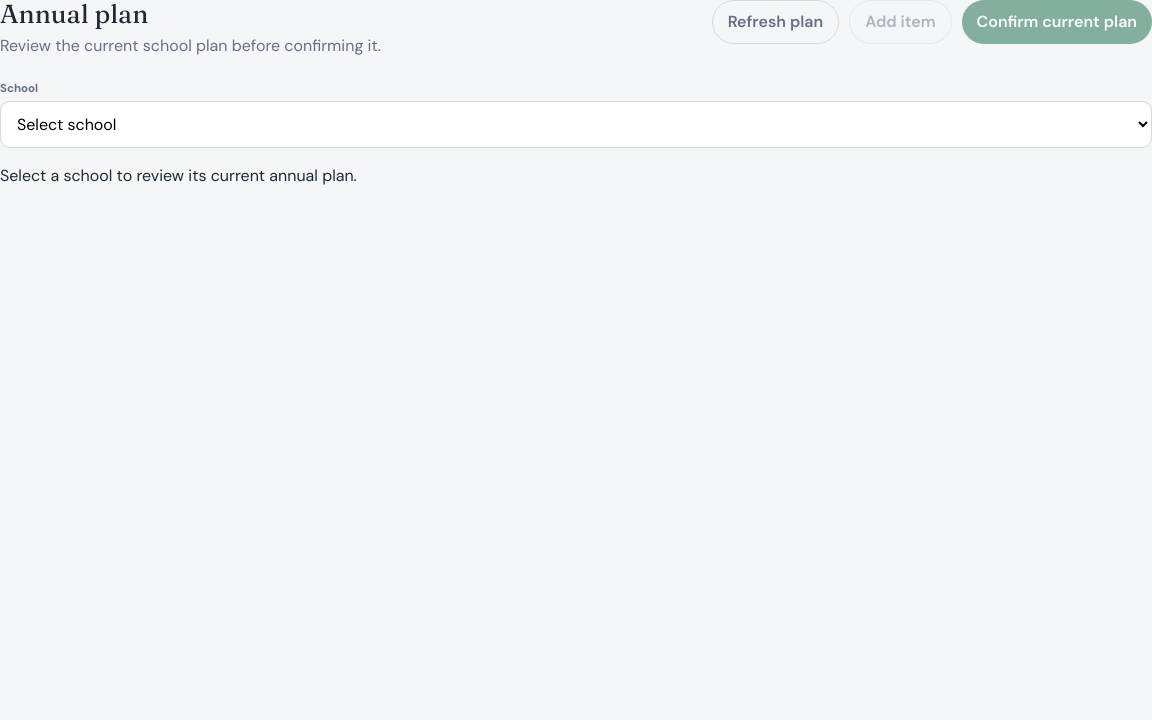
Annual plan persisted confirmation › requires explicit platform school scope and reuses an uncertain item reference on retry
Check: the button "Confirm current plan" is disabled, box 962,0 -> 1151,44
Select "School A" in the dropdown labelled "School" at [576, 125], box 0,101 -> 1151,148
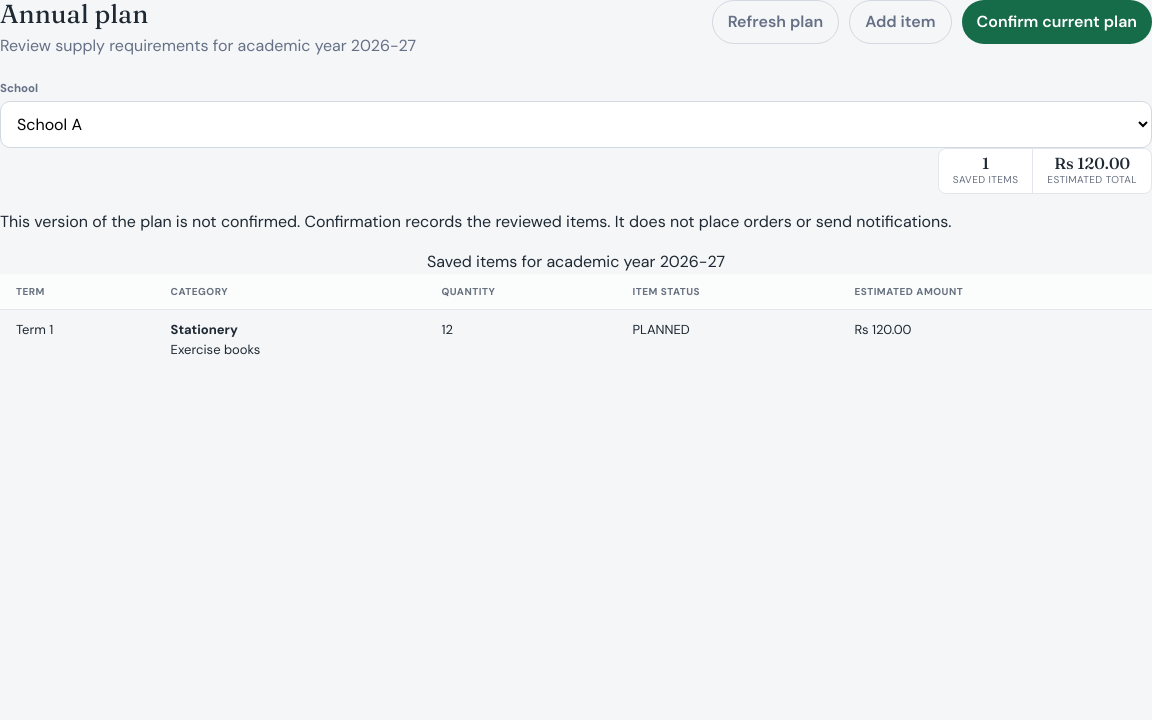
Check: the table is shown, box 0,250 -> 1151,369
Click the button "Add item" at [900, 22], box 849,0 -> 952,44
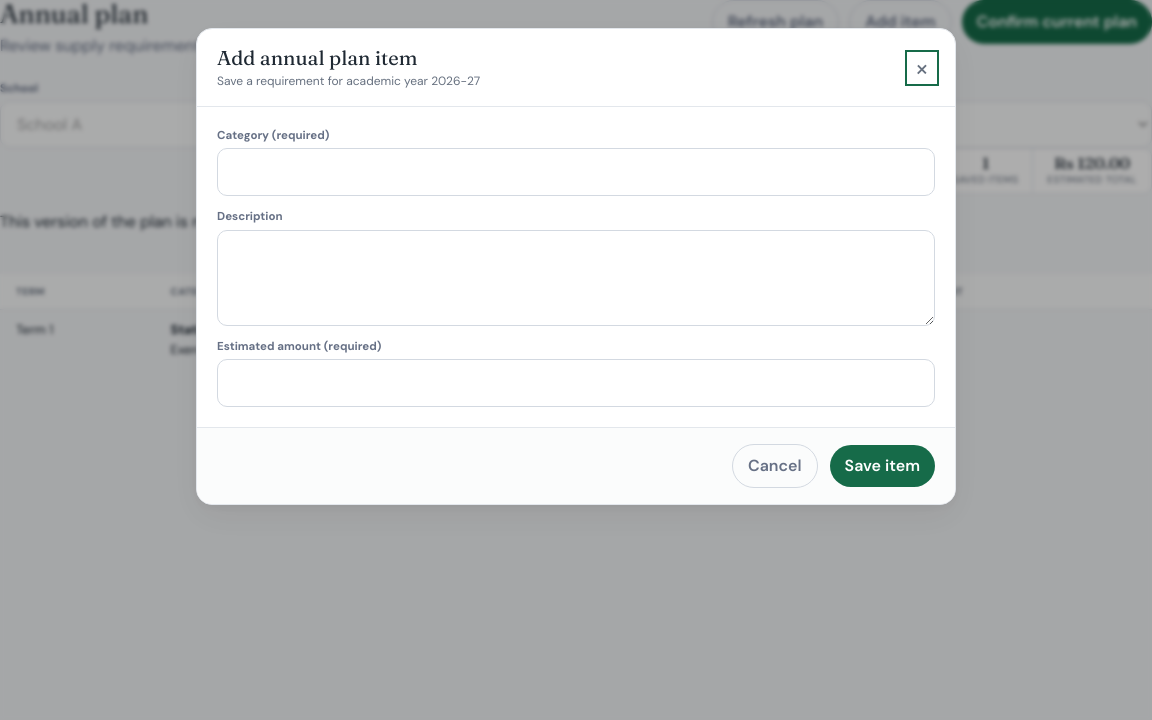
Type "Uniforms" into the field labelled "Category (required)" at [576, 172], box 217,148 -> 935,196
Type "250" into the number field labelled "Estimated amount (required)" at [576, 383], box 217,359 -> 935,407
Click the button "Save item" at [882, 466], box 830,445 -> 935,487
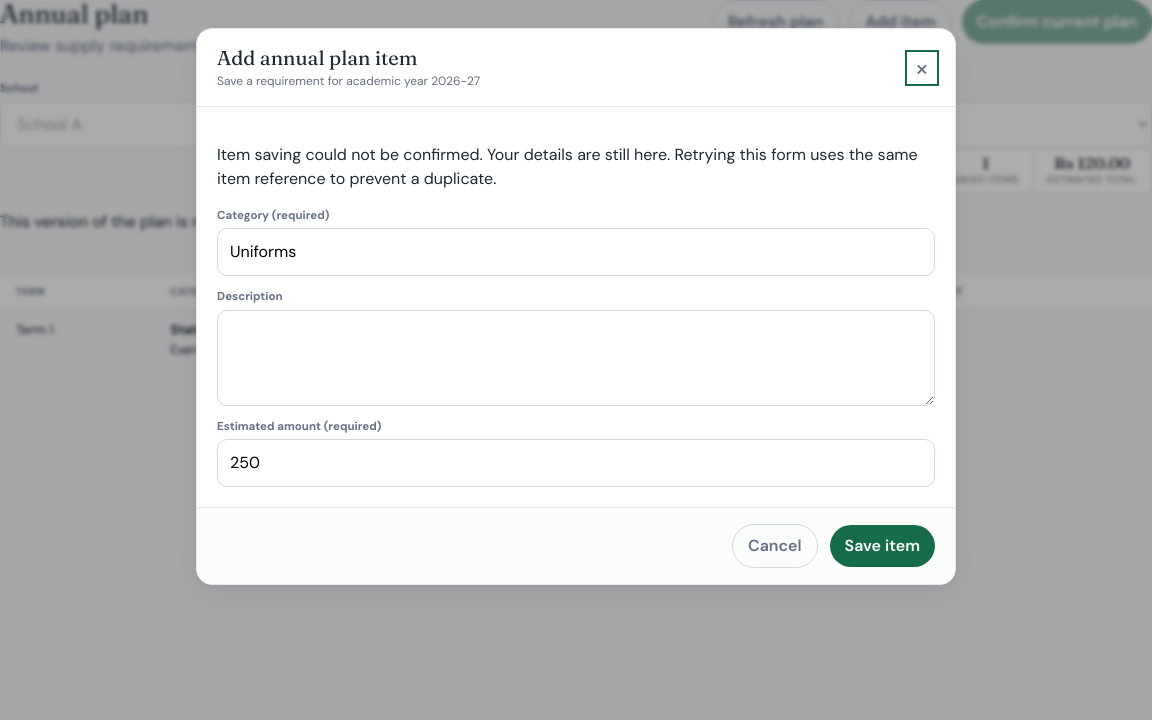
Check: the message shows "same item reference", box 217,144 -> 918,189
Click the button "Cancel" at [775, 546], box 732,524 -> 818,568
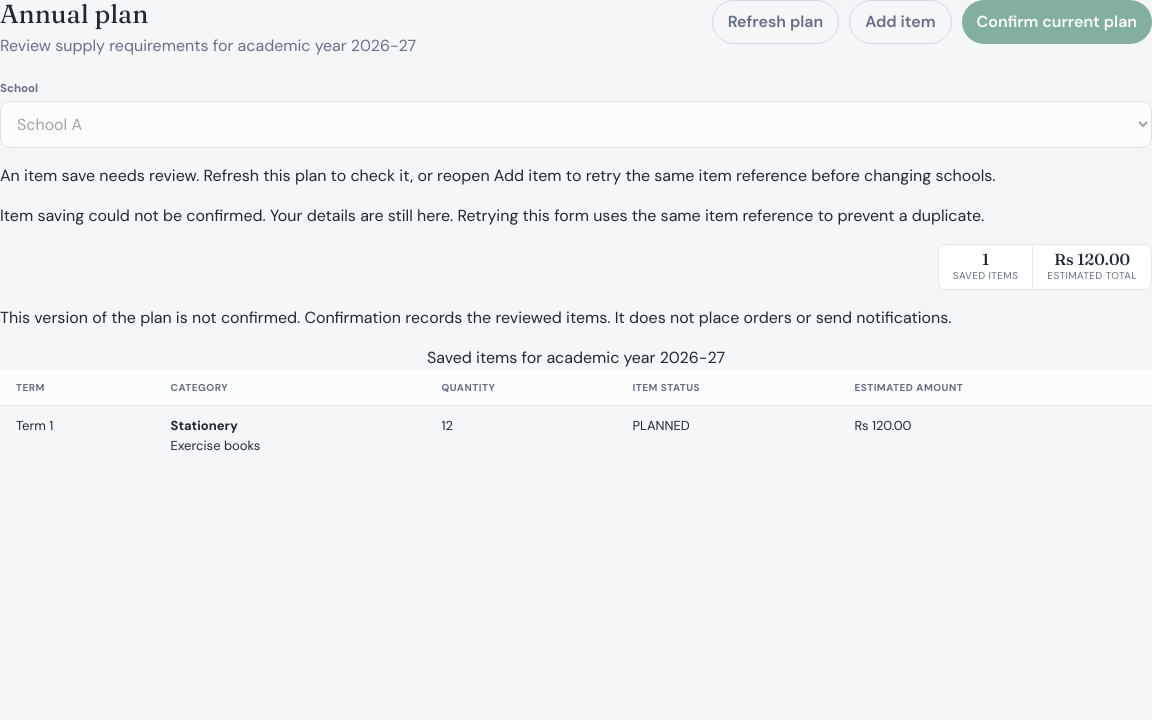
Check: the dropdown labelled "School" is disabled, box 0,101 -> 1151,148
Check: the button "Confirm current plan" is disabled, box 962,0 -> 1151,44
Click the button "Add item" at [900, 22], box 849,0 -> 952,44
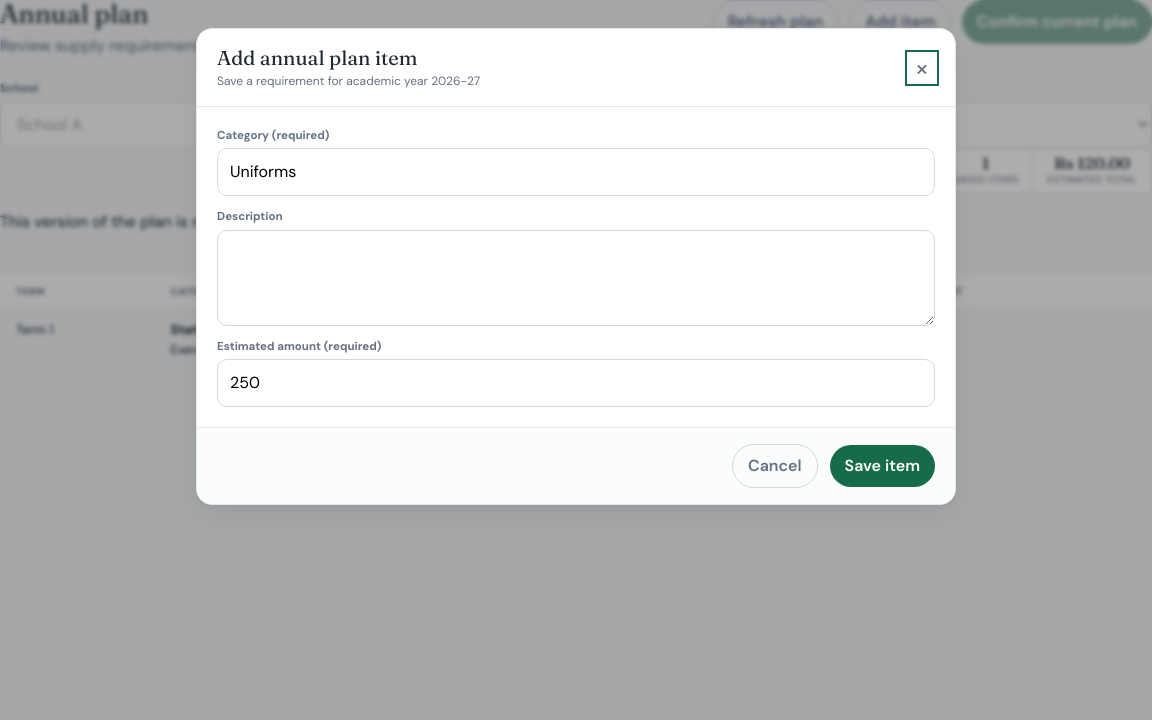
Click the button "Save item" at [882, 466], box 830,445 -> 935,487
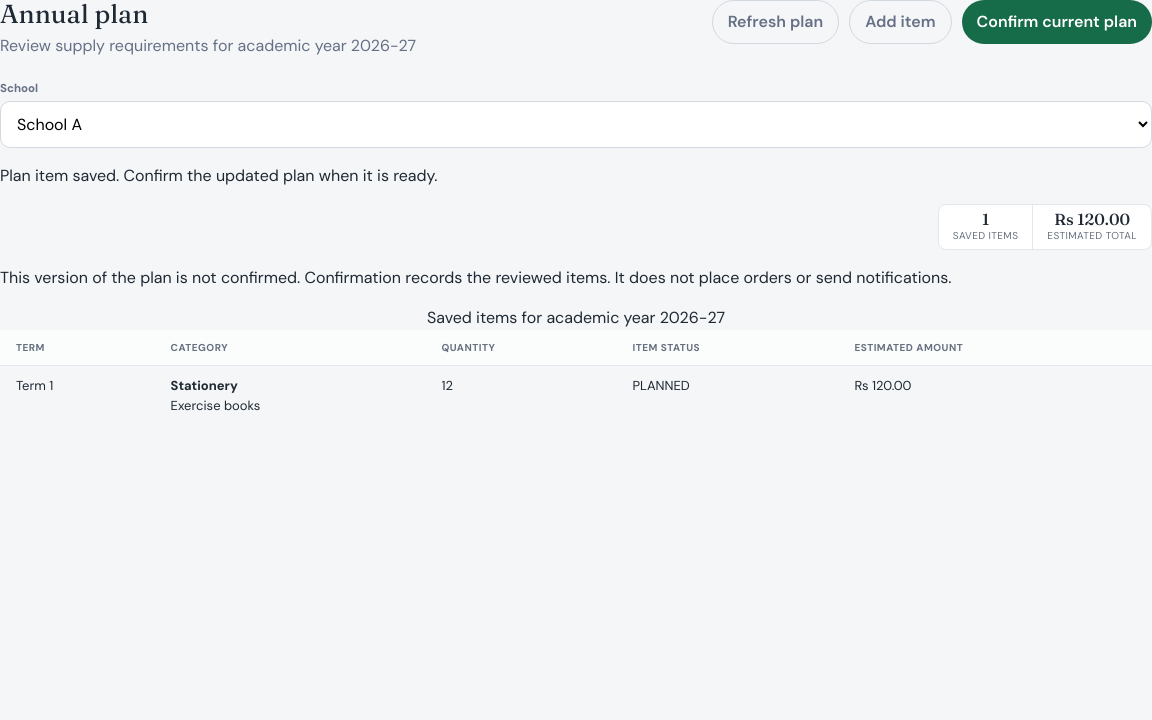
Check: the dialog is gone
Check: the dropdown labelled "School" is enabled, box 0,101 -> 1151,148
